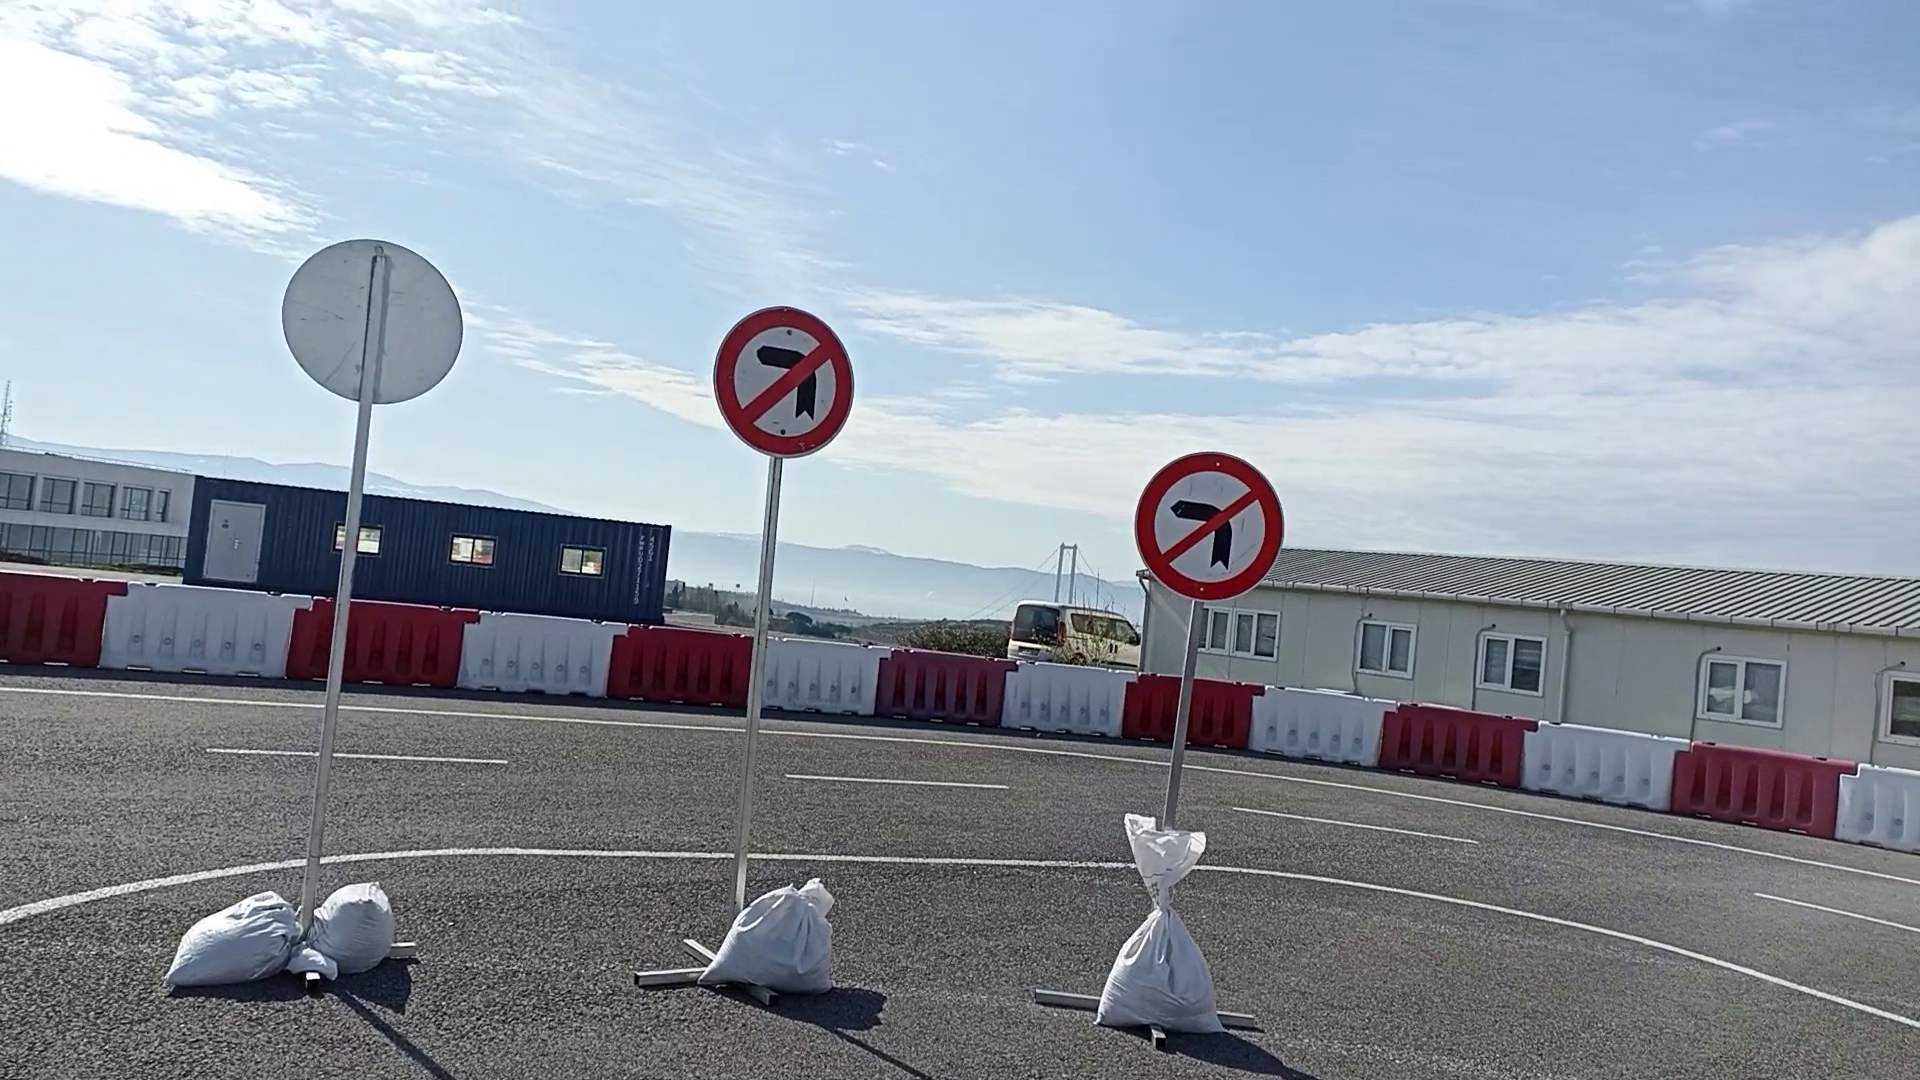noleft: (1133, 450, 1286, 603), (711, 305, 858, 460)
